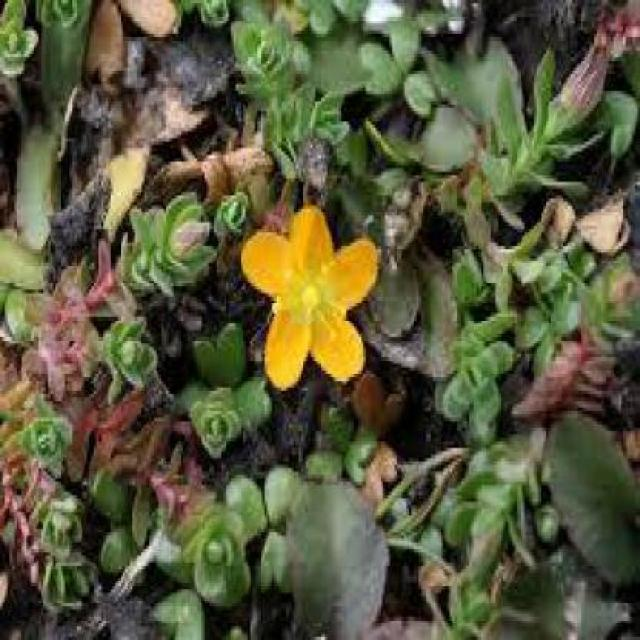flower: (233, 207, 398, 396)
